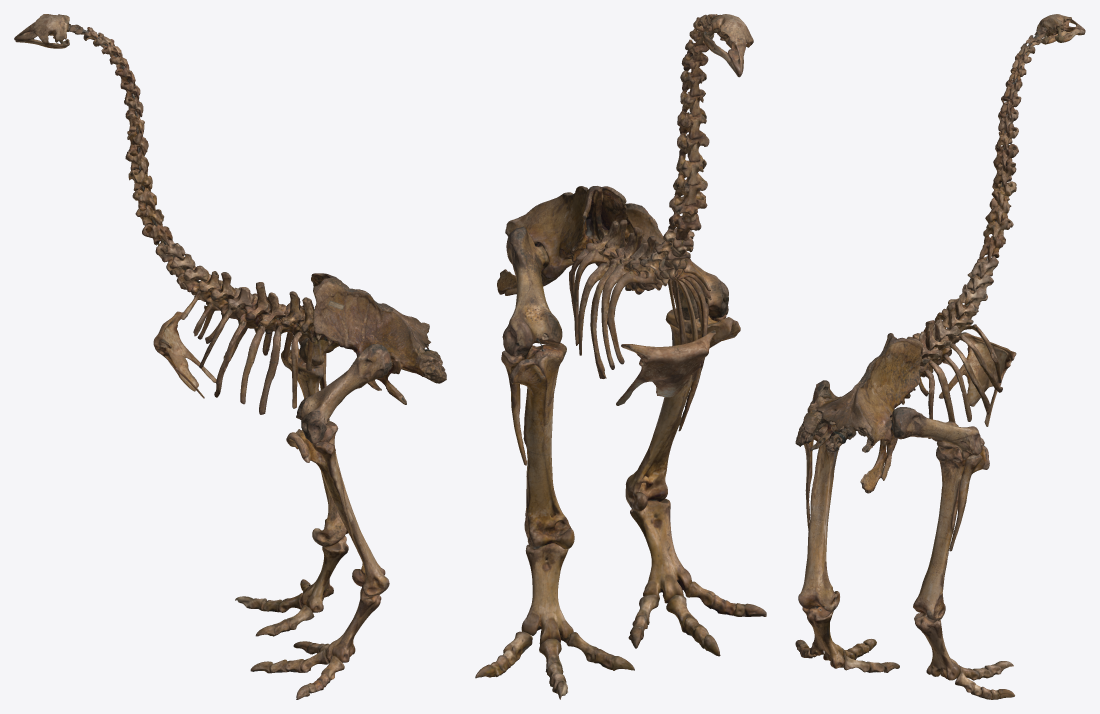
File: fossils.glb
3 views of the same model, side by side, from view 1: azimuth 30°, elevation 25°; view 2: azimuth 150°, elevation 25°; view 3: azimuth 270°, elevation 25° (orthographic). The views are drawn at different scales.
Visible parts, largest first — view 1: NHMW-Geo-Backstage_Dinornis-(Eurapteryx)-rheides_040321_AH-N; view 2: NHMW-Geo-Backstage_Dinornis-(Eurapteryx)-rheides_040321_AH-N; view 3: NHMW-Geo-Backstage_Dinornis-(Eurapteryx)-rheides_040321_AH-N.
Boxes of the visible parts, x1,y1,x2,y2 form: NHMW-Geo-Backstage_Dinornis-(Eurapteryx)-rheides_040321_AH-N: [14, 14, 446, 699]; NHMW-Geo-Backstage_Dinornis-(Eurapteryx)-rheides_040321_AH-N: [475, 14, 766, 699]; NHMW-Geo-Backstage_Dinornis-(Eurapteryx)-rheides_040321_AH-N: [795, 14, 1085, 699].
Bounding box in the file's own units: 0.7931 × 1.48 × 0.669.
1 material, 1 textured.
